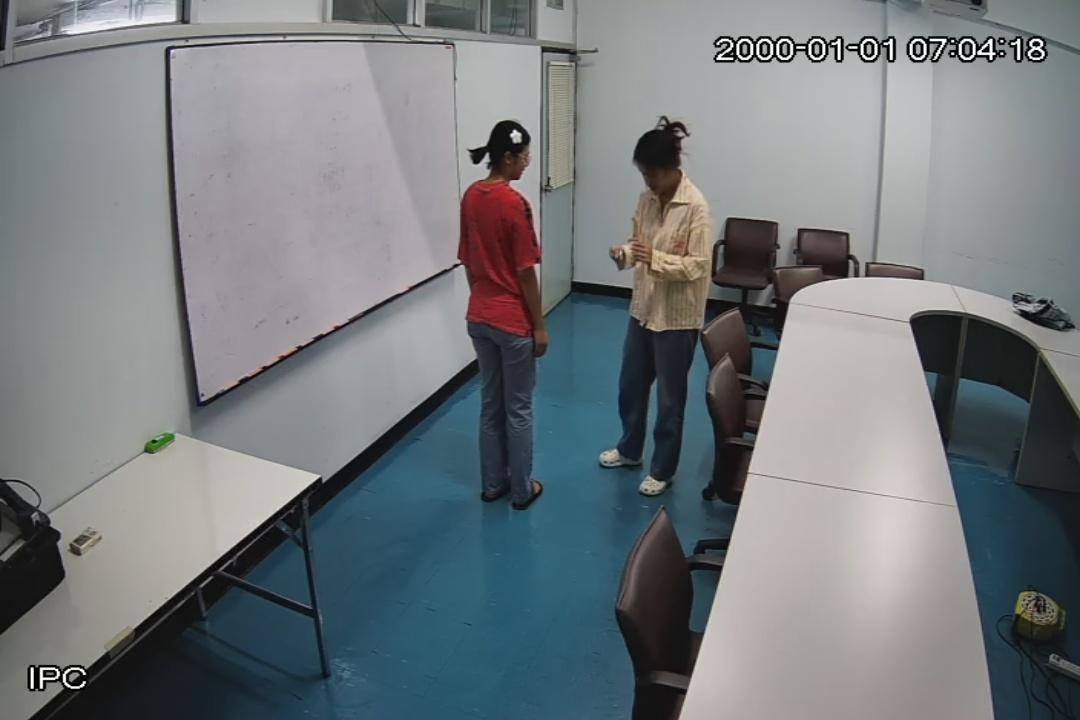normal: (454, 120, 551, 506), (612, 128, 706, 488)
